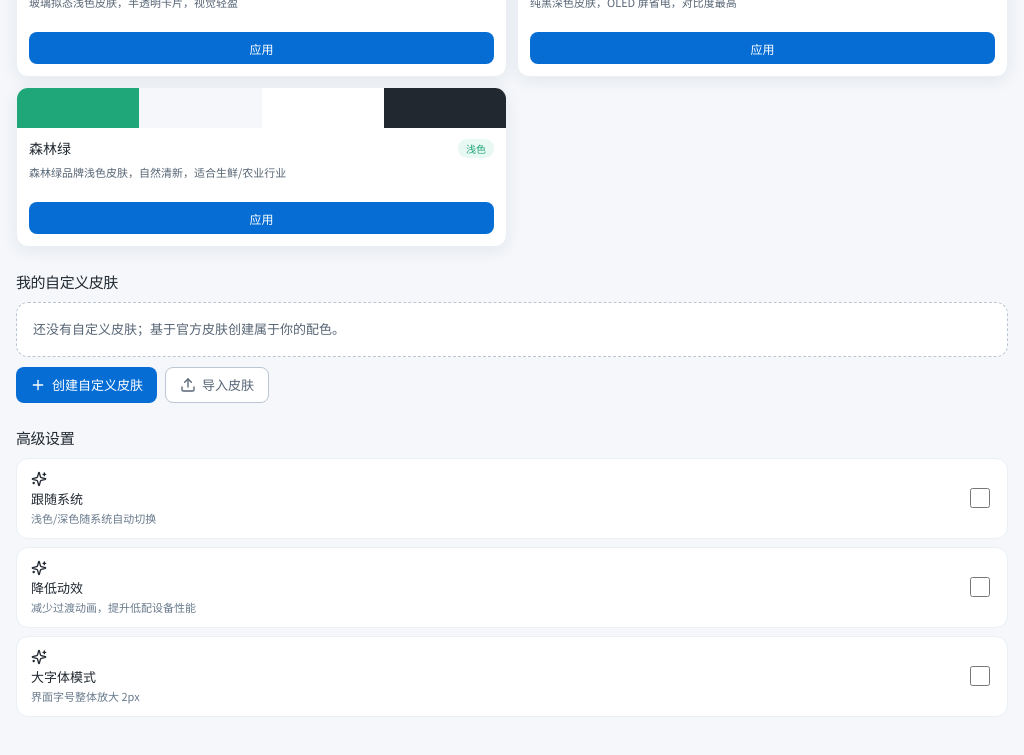
it: SkinCenter 皮肤中心页面 › 创建自定义皮肤后持久化到 localStorage
(page scrolled)
Click the button "创建自定义皮肤".
click(86, 385)  # box x1=16 y1=367 x2=157 y2=403
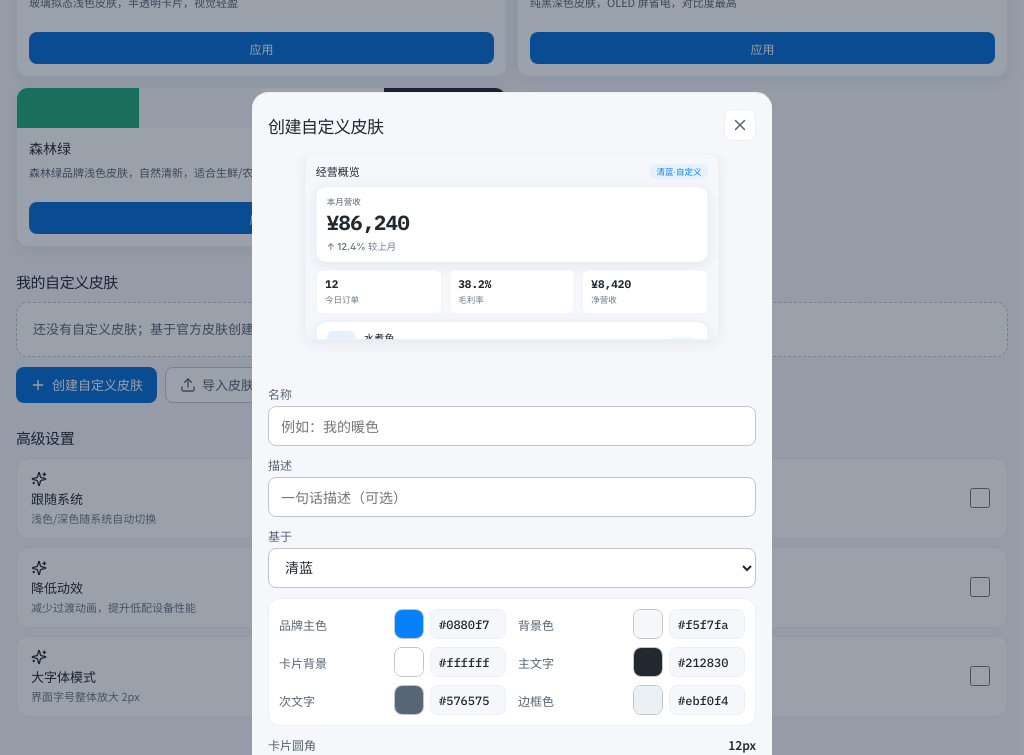
Type "我的暖色" into the field labelled "名称".
click(512, 426); type("我的暖色")  # box x1=268 y1=406 x2=756 y2=446
(page scrolled)
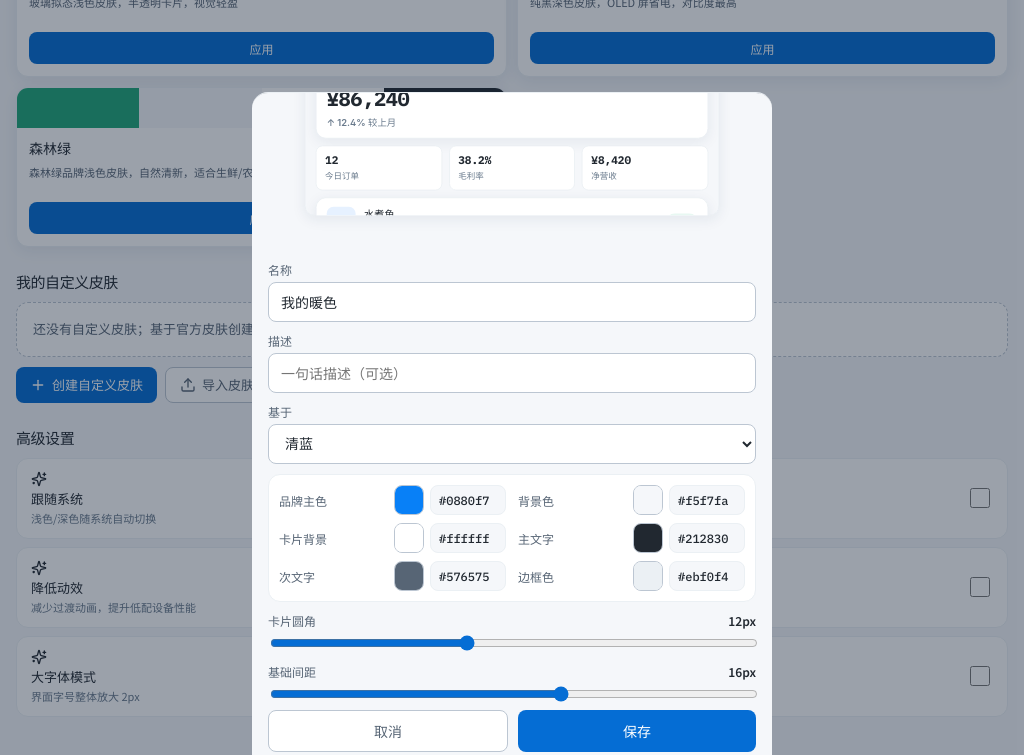
Click the button "保存".
click(637, 731)  # box x1=518 y1=710 x2=756 y2=752
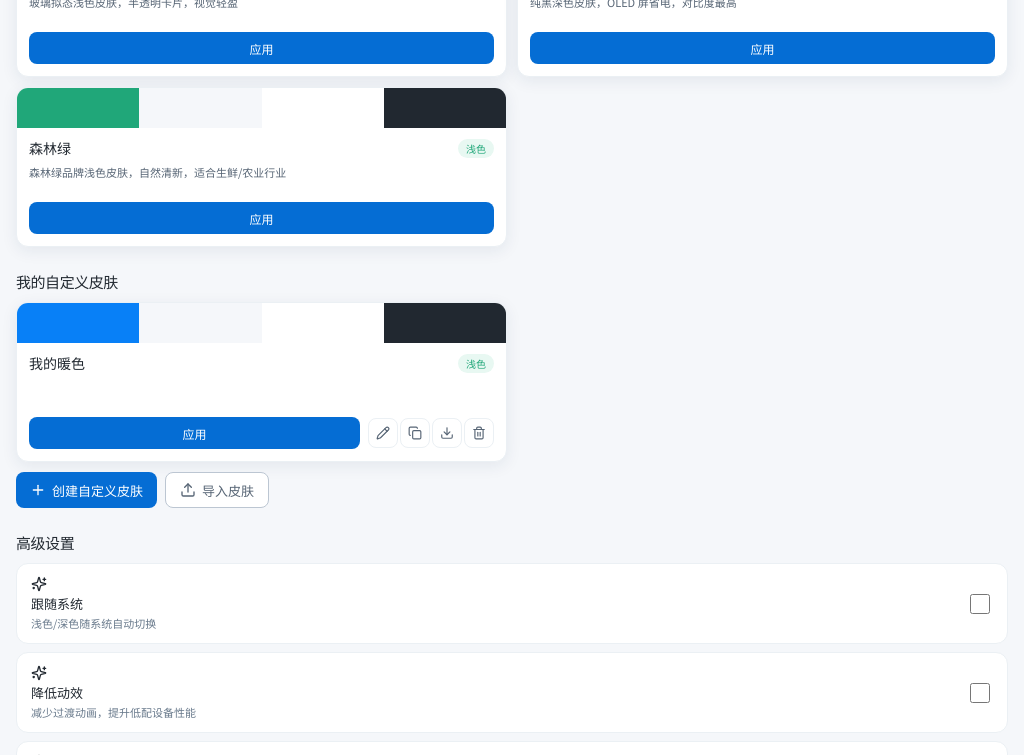
Check: the text "我的暖色" is shown, box x1=29 y1=353 x2=85 y2=373
Check: the number of elements with class "skin-card" is 6
